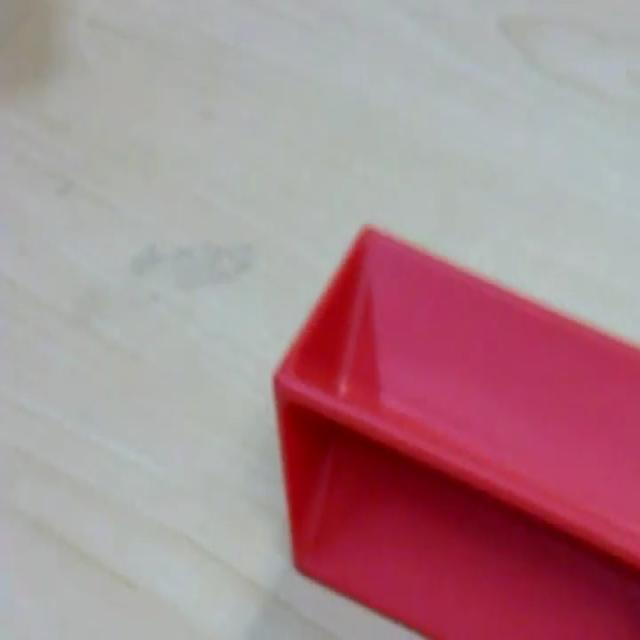red_block: (270, 222, 639, 638)
